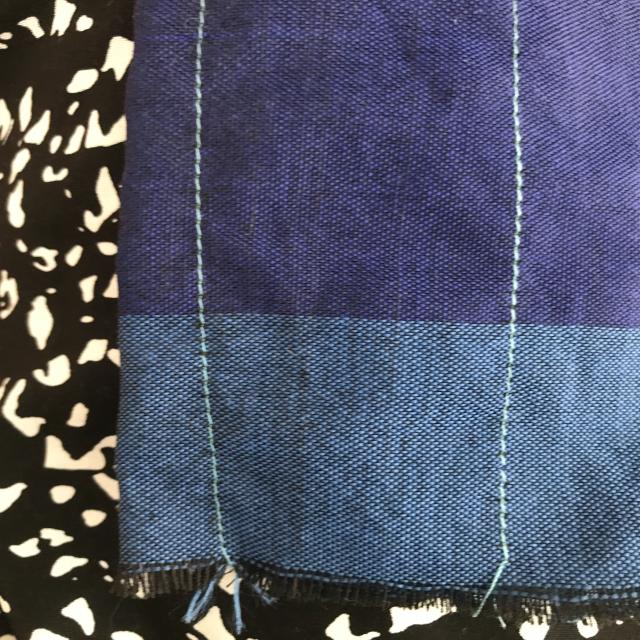good: (188, 233, 215, 355)
